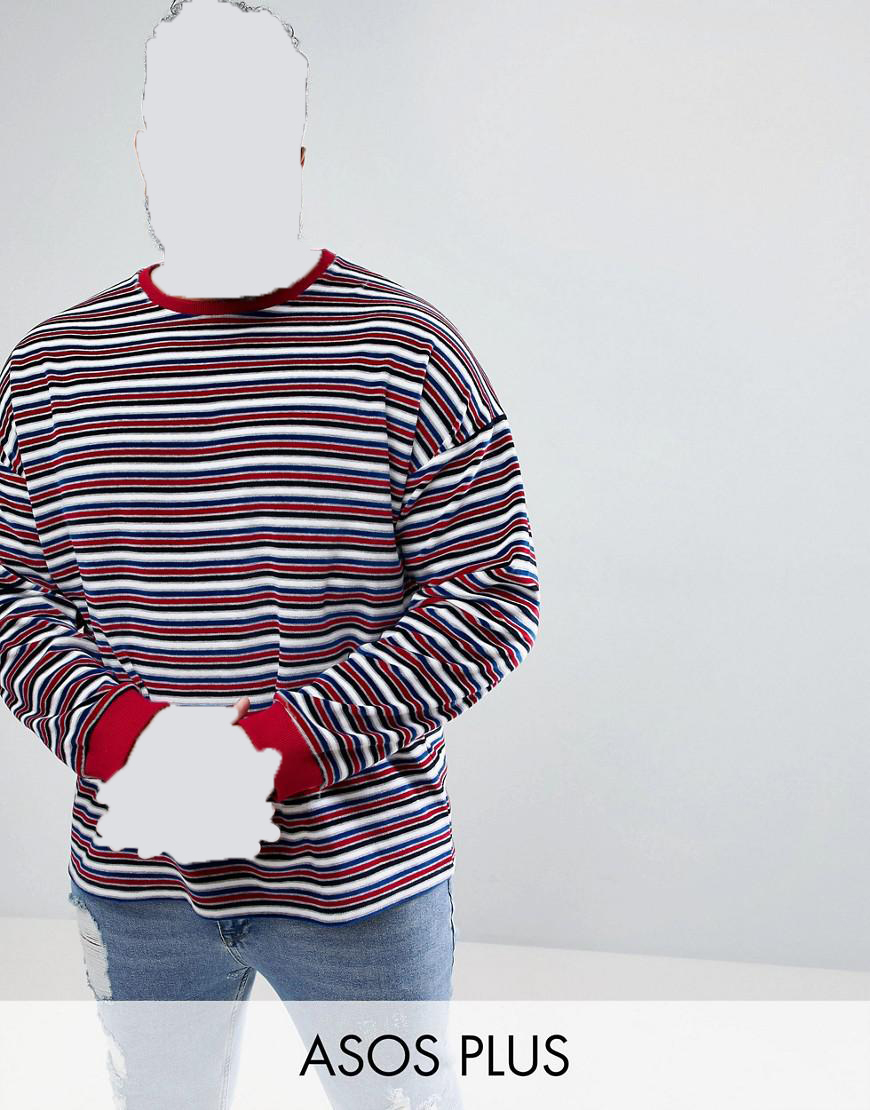teeshirt: (5, 254, 554, 929)
